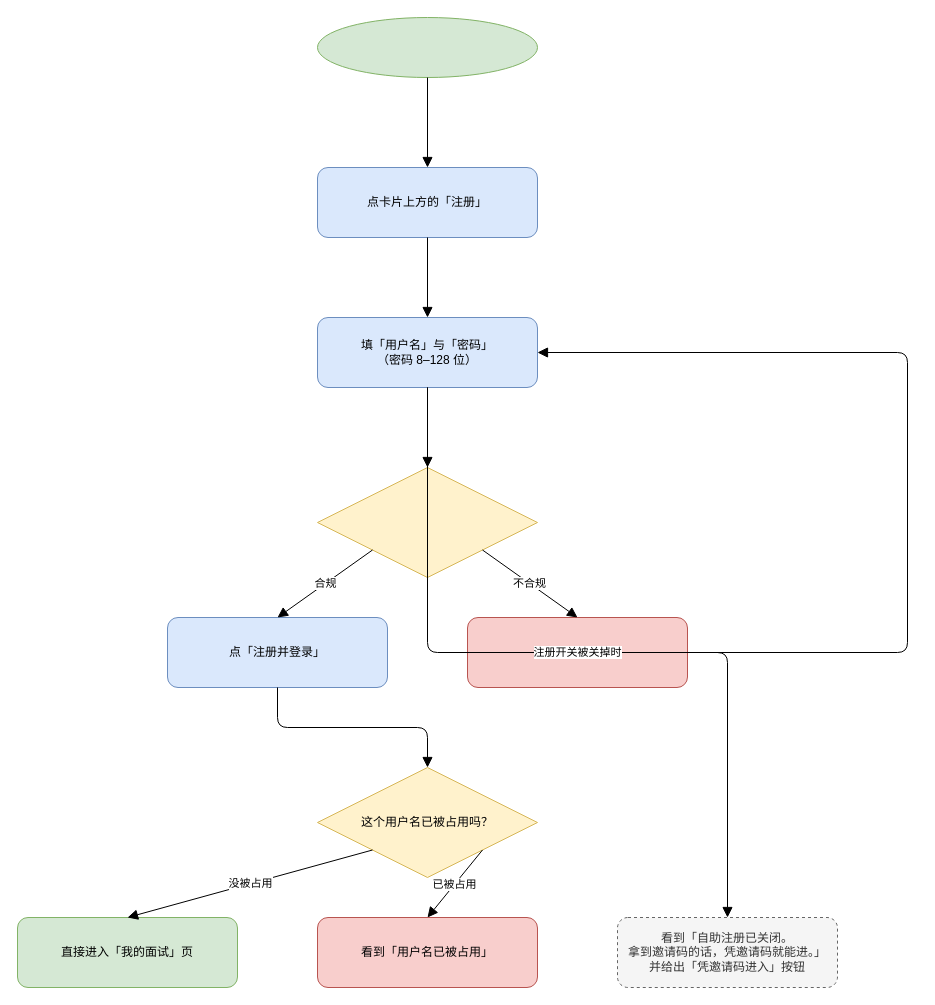
Image size: 935x1005. Some labels were removed from this diagram. Each missing label, with the box of its shape:
填得合规吗？: (316, 466, 538, 578)
打开候选人端登录页: (316, 16, 538, 78)
看到「请填写用户名」 或「密码长度需在 8–128 位之间」: (466, 616, 688, 688)
